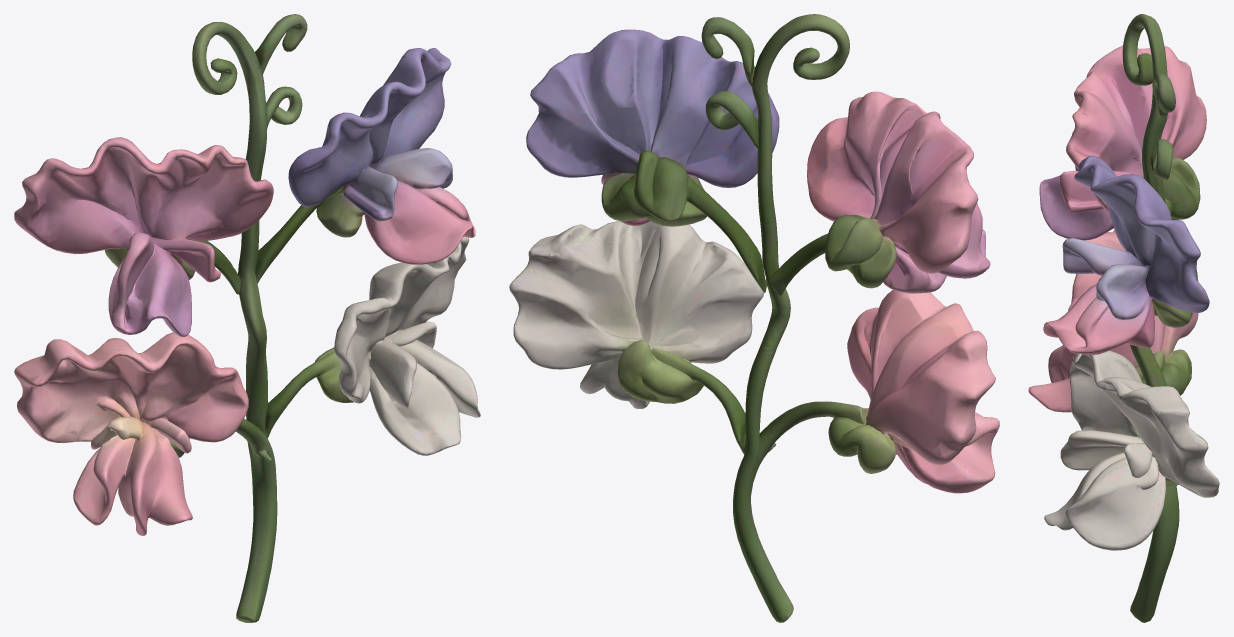
File: sweet_pea_sprig.glb
3 renders of one model, left to right at view 1: azimuth 30°, elevation 25°; view 2: azimuth 150°, elevation 25°; view 3: azimuth 270°, elevation 25°, orthographic. The views are drawn at different scales.
Visible parts, largest first — view 1: model; view 2: model; view 3: model.
Part boxes in pixels (x1,y1,x2,y2): model: (14,14,480,622); model: (509,14,999,622); model: (1028,14,1219,622).
Size of the model in its own units: 1.48 by 1.9 by 0.5601.
Materials: 1 (1 with a texture image).
